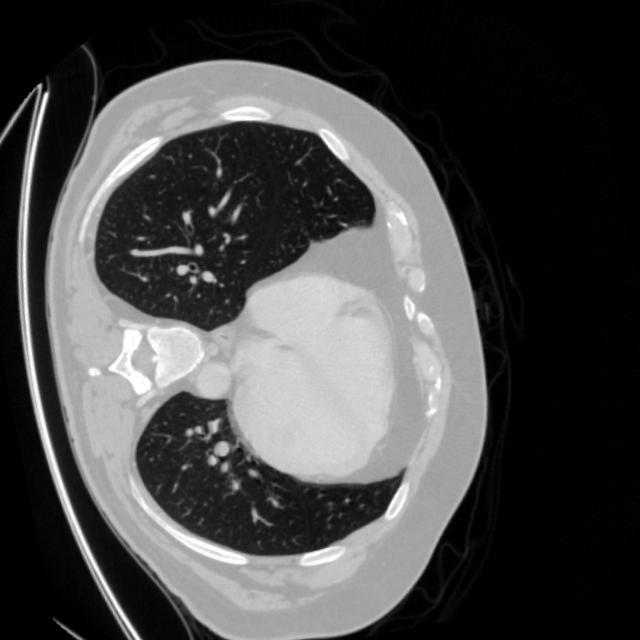nodule: (200, 424, 245, 470)
